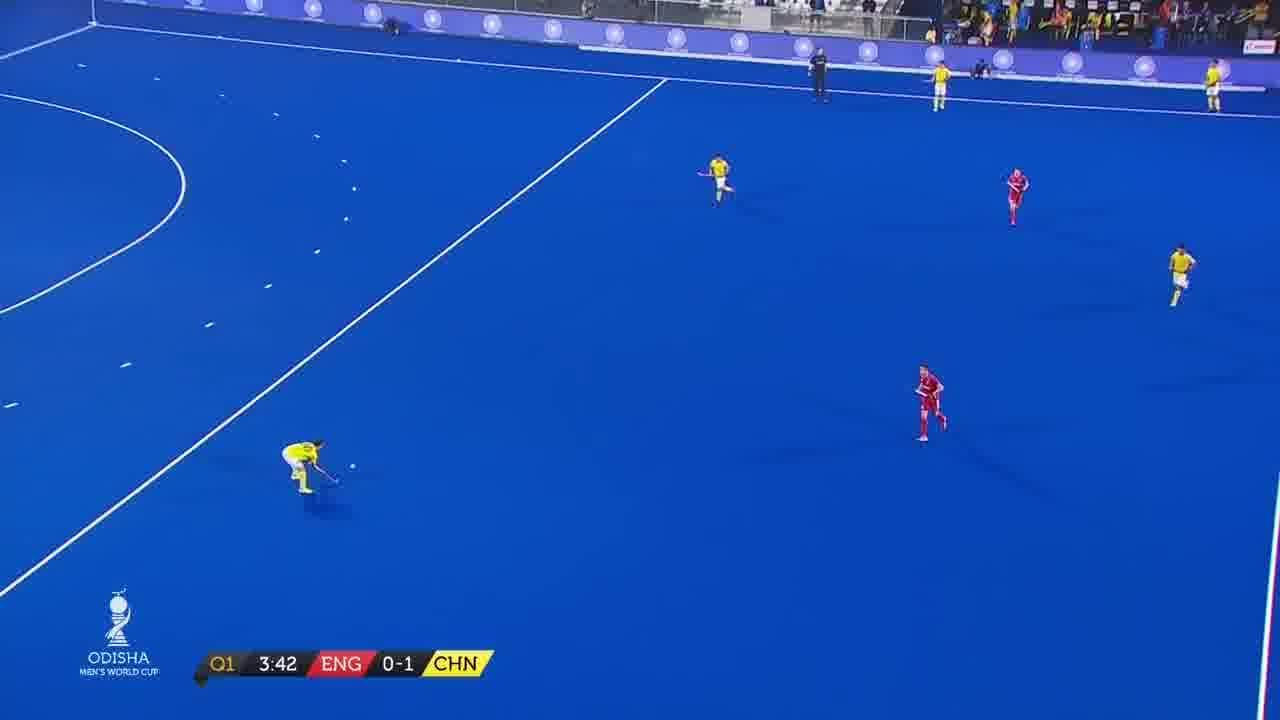ball: (342, 458, 362, 472)
